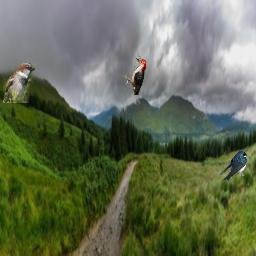Sparrow: (3, 63, 35, 103)
Swallow: (219, 150, 247, 181)
Woodpecker: (123, 55, 146, 95)
